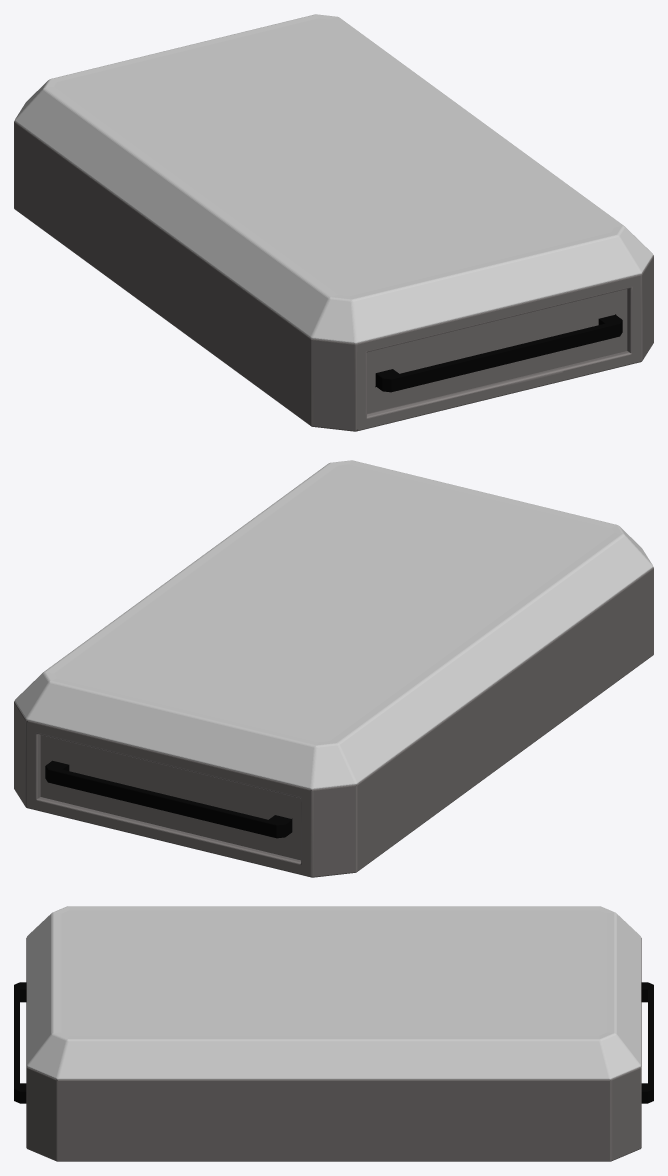
File: SSCContainer2.fbx
The picture shows the model from 3 angles, top to bottom: view 1: azimuth 30°, elevation 25°; view 2: azimuth 150°, elevation 25°; view 3: azimuth 270°, elevation 25°; orthographic projection. The views are drawn at different scales.
Visible parts, largest first — view 1: SSCContainter2_Lid, SSCContainer2_Base; view 2: SSCContainter2_Lid, SSCContainer2_Base; view 3: SSCContainter2_Lid, SSCContainer2_Base.
Boxes of the visible parts, x1,y1,x2,y2 form: SSCContainter2_Lid: (14,14,653,343); SSCContainer2_Base: (14,121,653,431); SSCContainter2_Lid: (14,460,653,789); SSCContainer2_Base: (14,567,653,877); SSCContainter2_Lid: (27,906,640,1079); SSCContainer2_Base: (14,937,653,1161).
Size of the model in its own units: 120 by 39.93 by 208.
